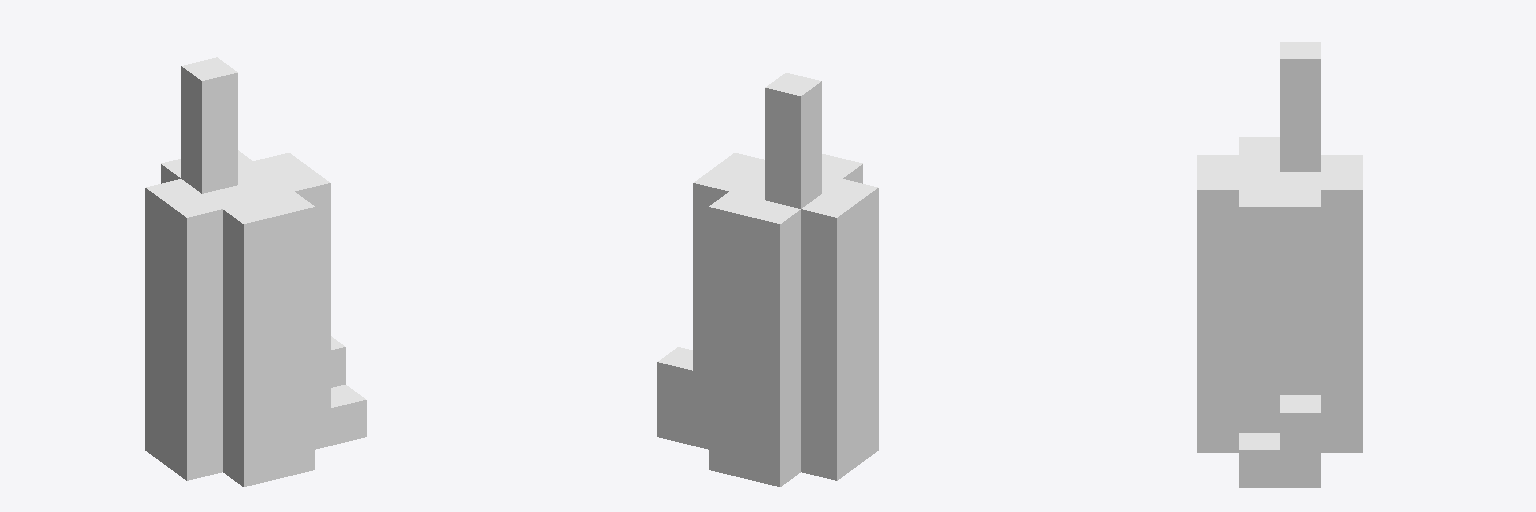
File: candle_3.obj
The picture shows the model from 3 angles: view 1: azimuth 30°, elevation 25°; view 2: azimuth 150°, elevation 25°; view 3: azimuth 270°, elevation 25°; orthographic projection.
Parts seen in each view (by area): view 1: object 1; view 2: object 1; view 3: object 1.
Part boxes in pixels (left/top/right/bottom): object 1: left=145, top=57, right=366, bottom=486; object 1: left=657, top=73, right=878, bottom=486; object 1: left=1197, top=42, right=1362, bottom=487.
Bounding box in the file's own units: 0.5 × 1 × 0.4.